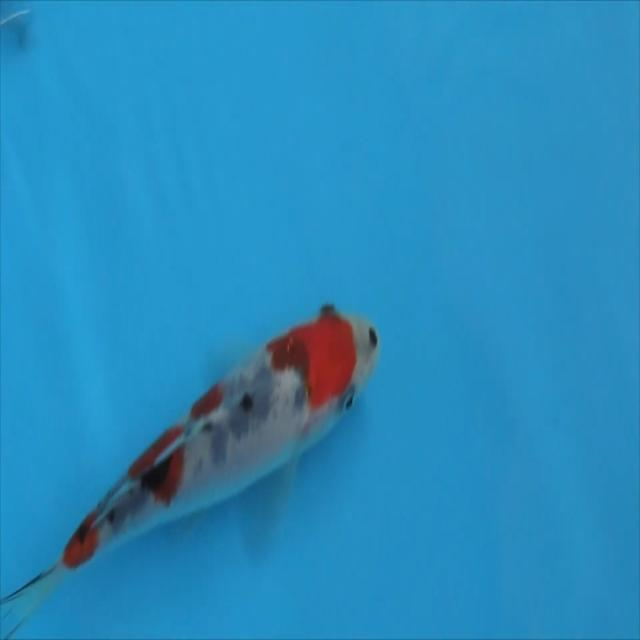Sanke: (1, 299, 380, 637)
